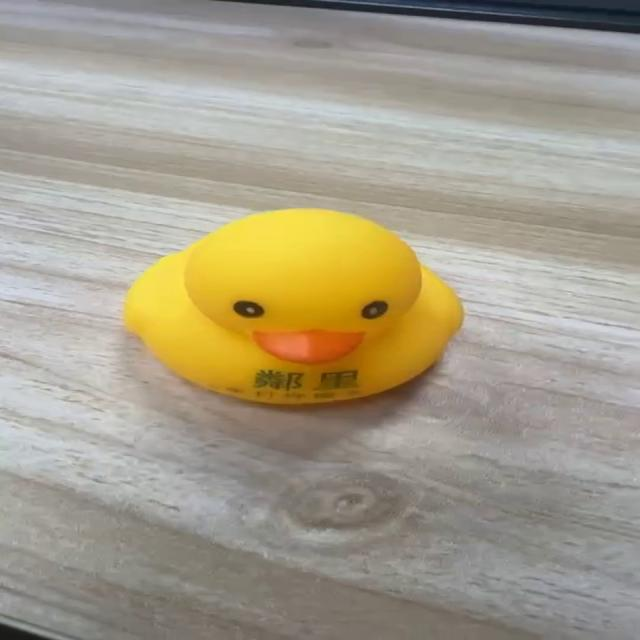yellow_duck: (121, 206, 466, 406)
